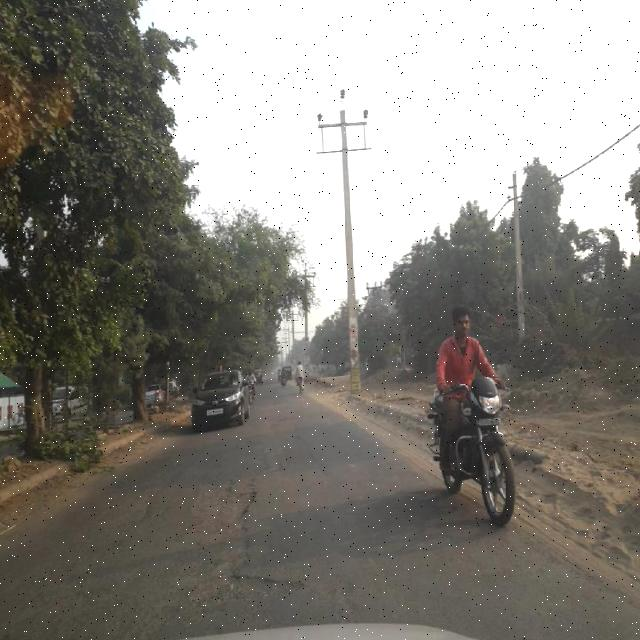D40: (116, 564, 332, 628), (165, 465, 262, 566)
